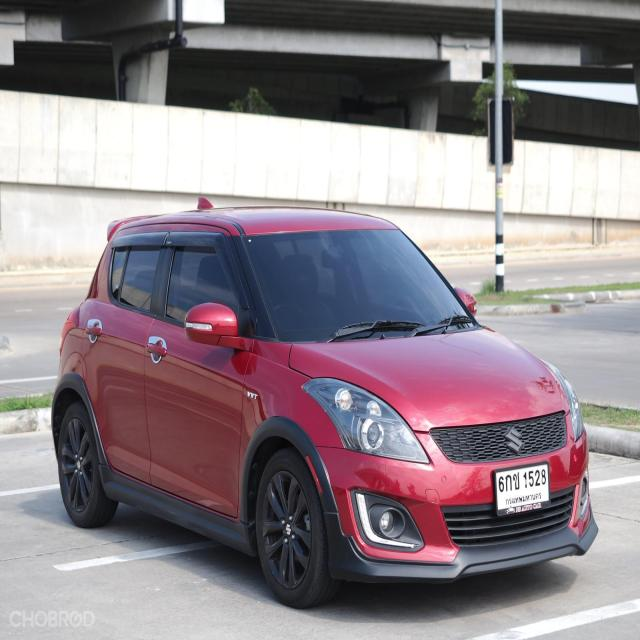license_plate: (493, 460, 552, 516)
